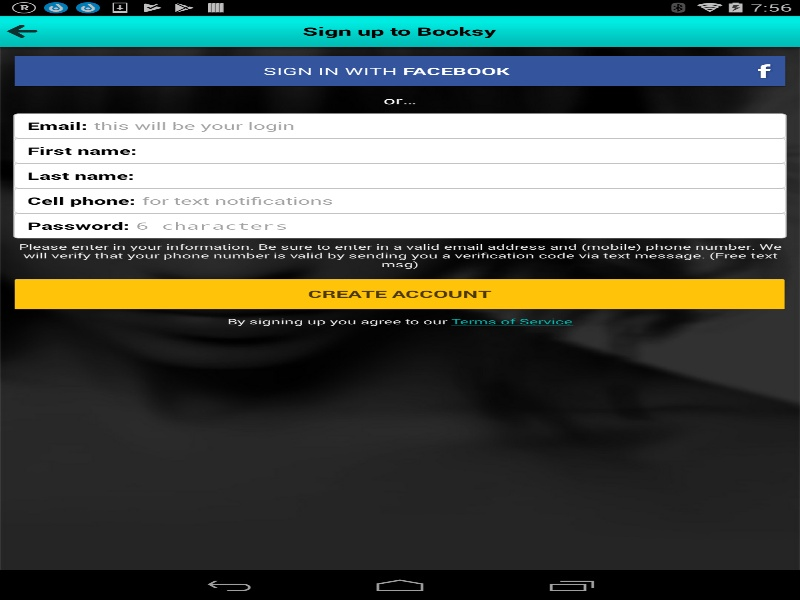Button: (13, 278, 786, 310), (13, 56, 786, 87)
Input: (94, 119, 766, 132), (136, 219, 766, 232), (140, 169, 766, 182), (142, 194, 766, 207), (143, 144, 766, 157)
